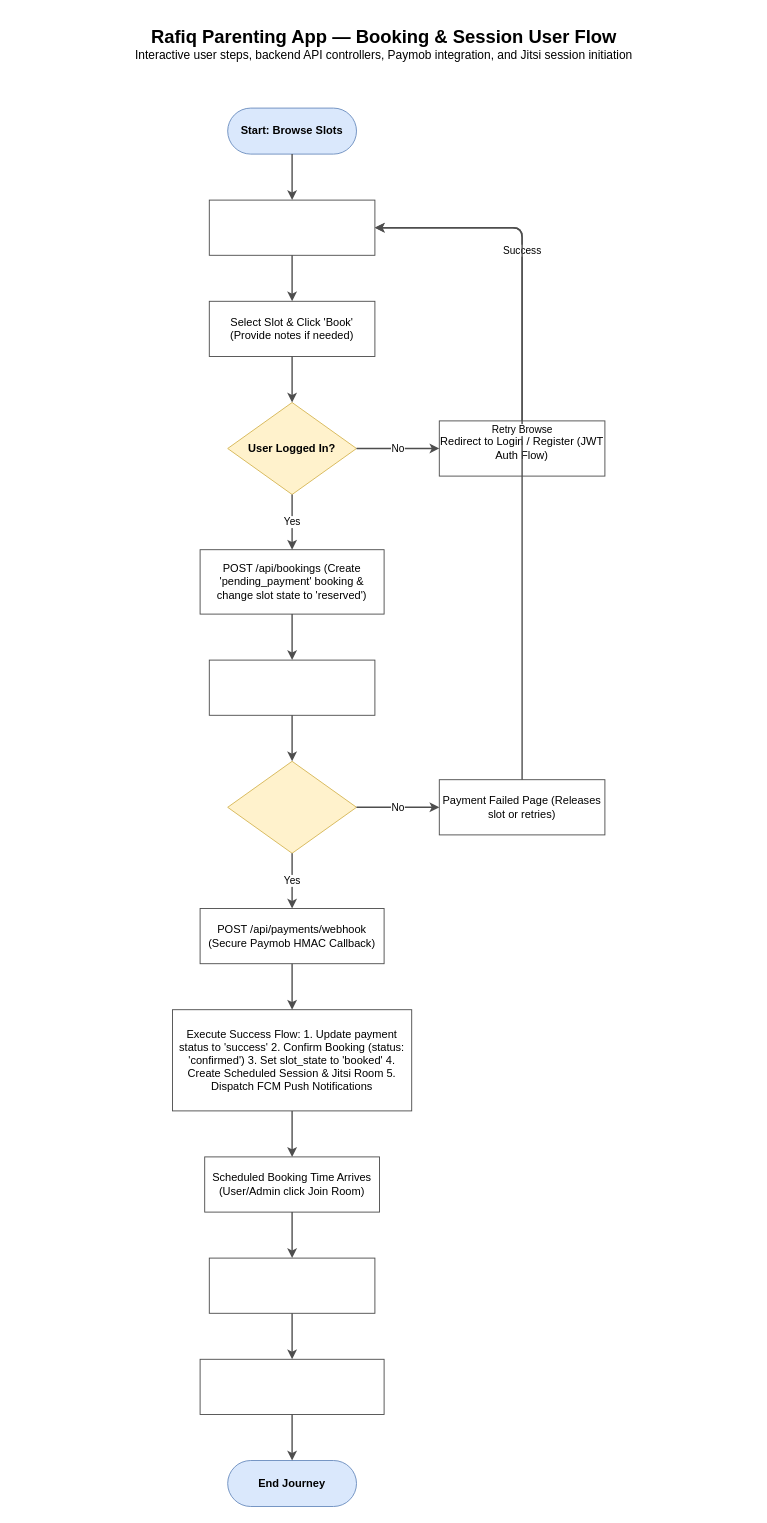
Image size: 767x1523. Some labels were removed from this diagram. Here are the shapes that lost their labels. From the top down, the centre of each, then its label:
At point 291,227: "GET /api/slots (Available Slots Screen)".
At point 291,687: "Redirect to Paymob Iframe (Enter Card/Wallet details)".
At point 291,806: "Payment Success?".
At point 291,1285: "Join Jitsi Call Session (meet.jit.si video conference)".
At point 291,1386: "Complete Booking Session (Admin marks 'completed' releases/locks resources)".
